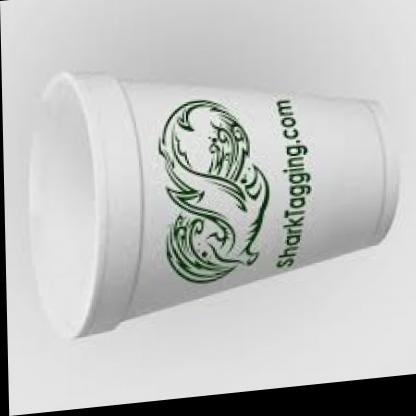trash: (29, 73, 396, 336)
